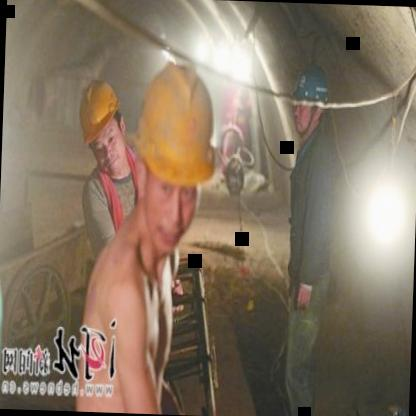helmet: (132, 64, 218, 254), (75, 76, 129, 180), (290, 62, 332, 136)
